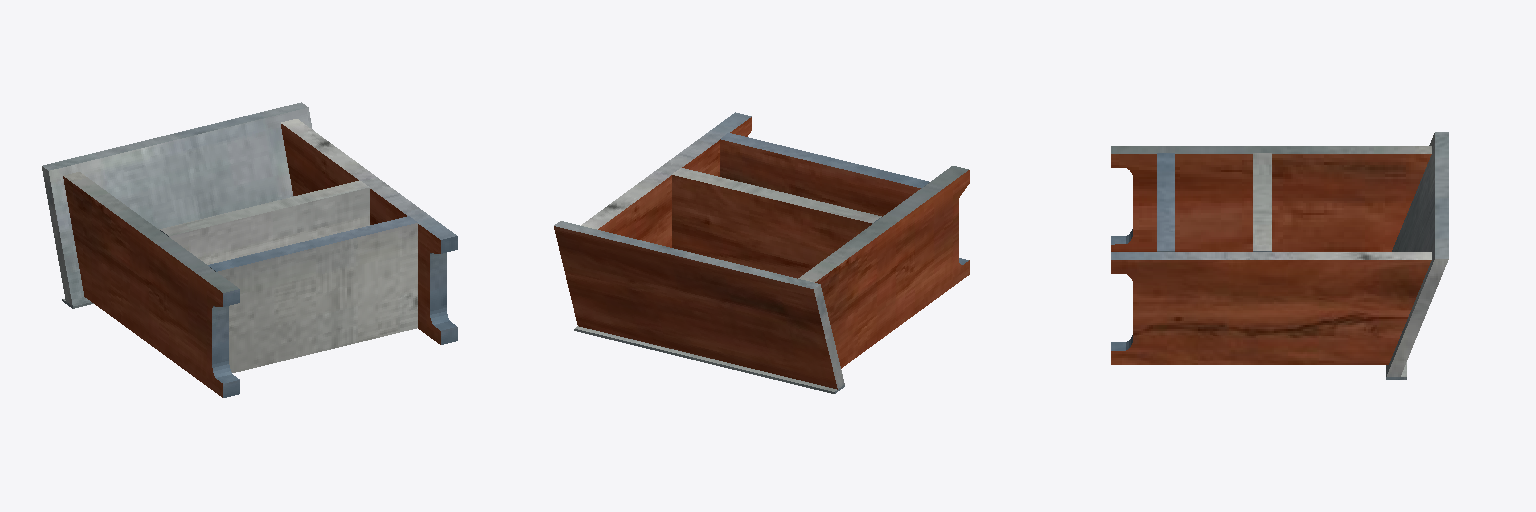
The picture shows the model from 3 angles: view 1: azimuth 30°, elevation 25°; view 2: azimuth 150°, elevation 25°; view 3: azimuth 270°, elevation 25°; orthographic projection.
Visible parts, largest first — view 1: libraryStand.obj; view 2: libraryStand.obj; view 3: libraryStand.obj.
Boxes of the visible parts, x1,y1,x2,y2 form: libraryStand.obj: [42, 102, 457, 397]; libraryStand.obj: [554, 112, 969, 393]; libraryStand.obj: [1111, 132, 1448, 379].
Bounding box in the file's own units: 15.57 × 6.88 × 17.51.
1 materials, 1 textured.